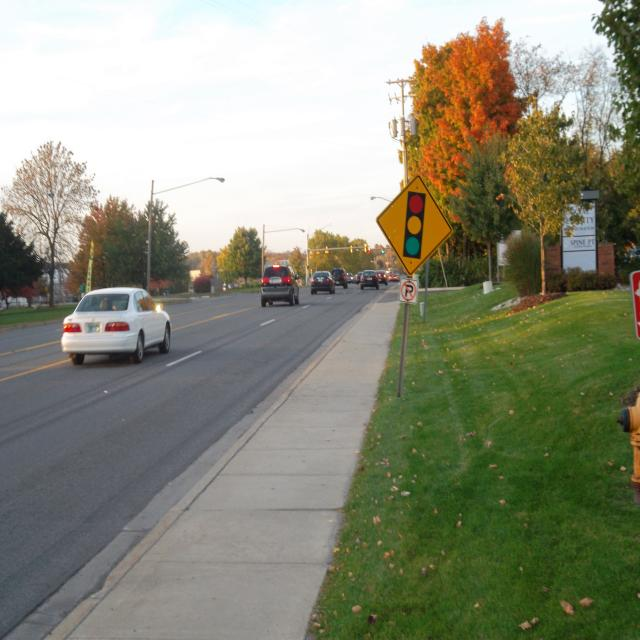regulatory: (401, 278, 421, 302)
warning: (370, 174, 454, 274)
